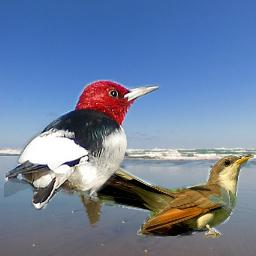Cuckoo: (64, 154, 254, 238)
Woodpecker: (4, 79, 164, 211)
